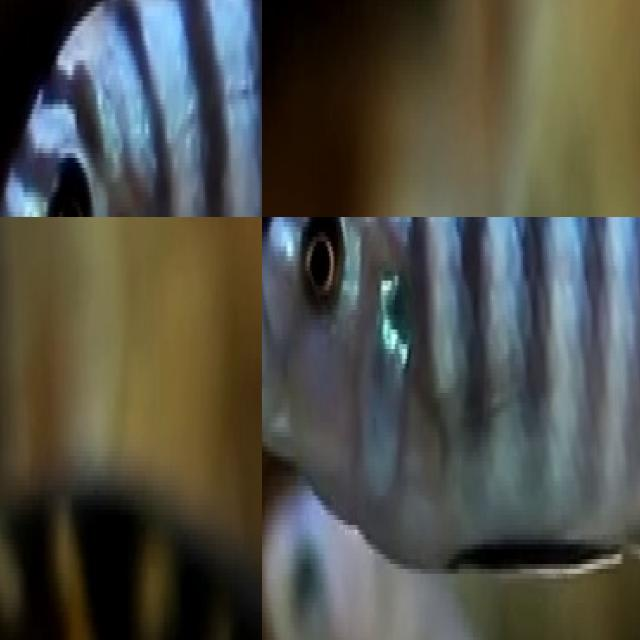fish: (262, 217, 640, 632), (0, 0, 262, 217)
